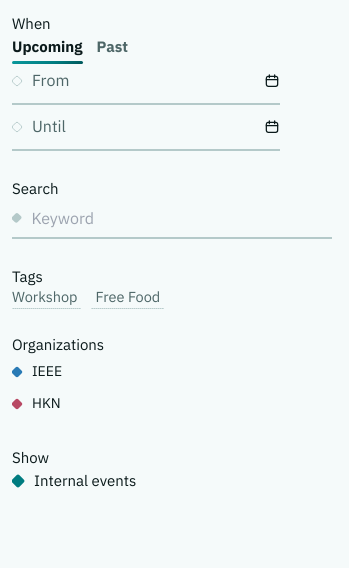
Test case: FilterRail › offers a way back to everything once something has been filtered
Expected: the button "clear" is not shown
Click the checkbox labelled "IEEE": (37, 371) 11,362 -> 62,380
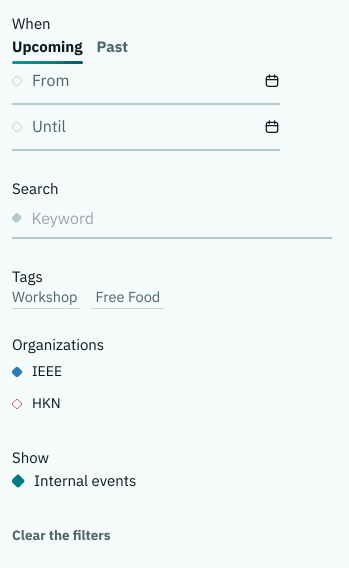
Expected: the button "Clear the filters" is shown, 12,519 -> 110,551
